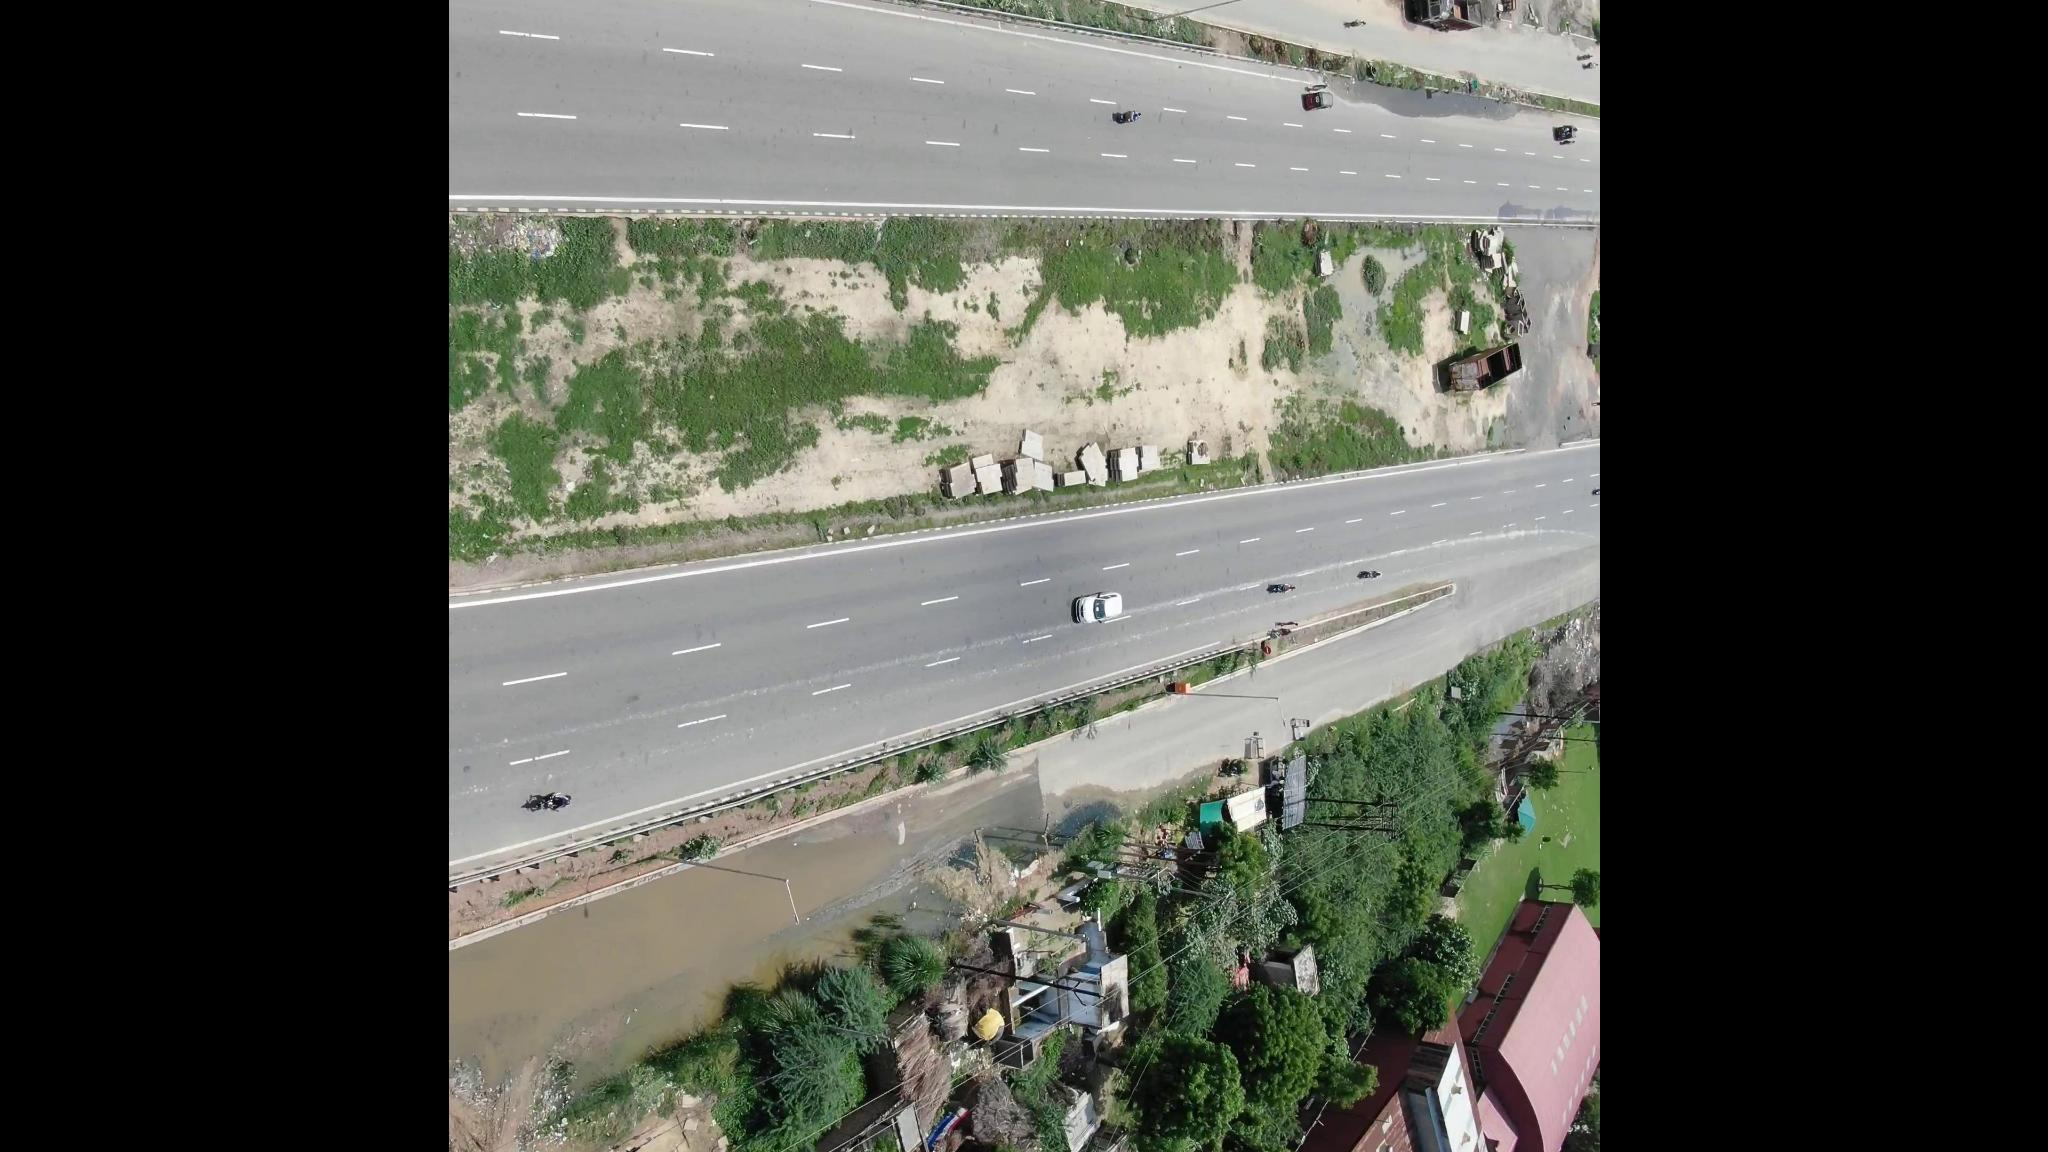Waterlogging: (527, 823, 919, 1032), (945, 767, 1100, 854), (1355, 86, 1490, 125)
